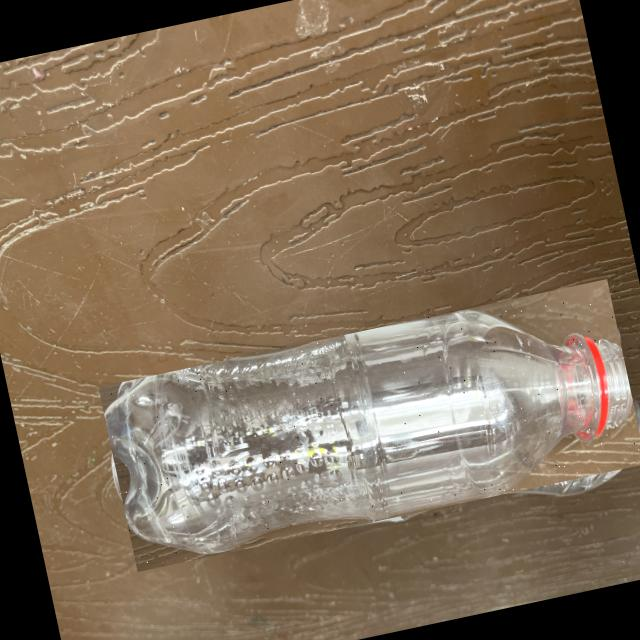PET_With_Cap: (98, 277, 640, 570)
